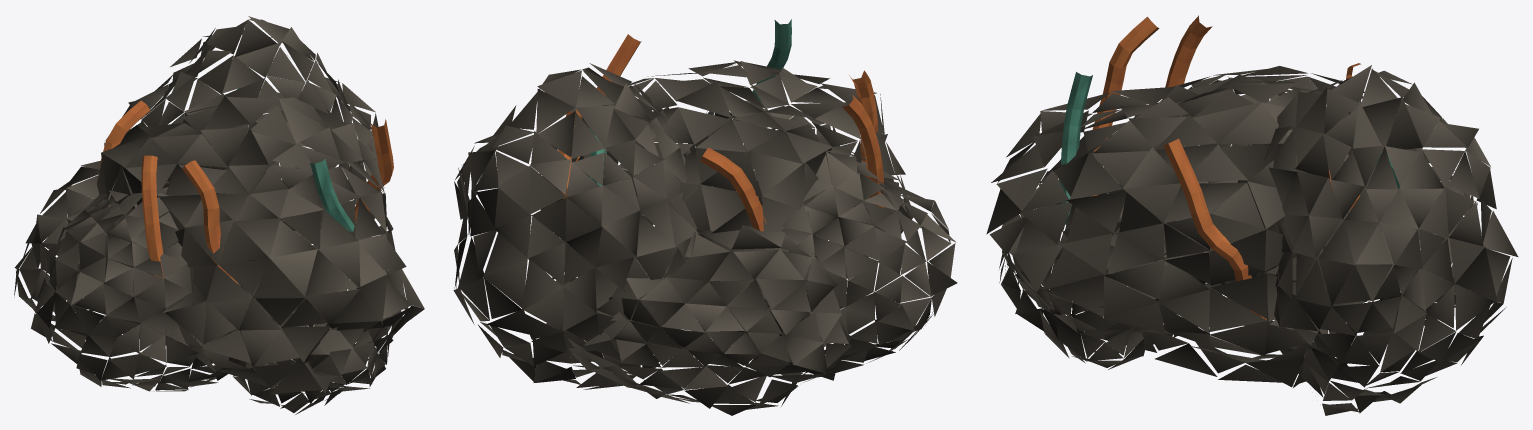
The model's file is mature-lod0.glb.
3 renders of one model, left to right at view 1: azimuth 30°, elevation 25°; view 2: azimuth 150°, elevation 25°; view 3: azimuth 270°, elevation 25°, orthographic. The views are drawn at different scales.
Visible parts, largest first — view 1: copper-host-rock, copper-mineral-seams; view 2: copper-host-rock, copper-mineral-seams; view 3: copper-host-rock, copper-mineral-seams.
Boxes of the visible parts, x1,y1,x2,y2 form: copper-host-rock: (14,16,424,414); copper-mineral-seams: (98,87,393,308); copper-host-rock: (453,60,957,415); copper-mineral-seams: (558,19,884,250); copper-host-rock: (986,65,1518,415); copper-mineral-seams: (1060,15,1399,319).
Size of the model in its own units: 4.63 by 3.44 by 4.84.
